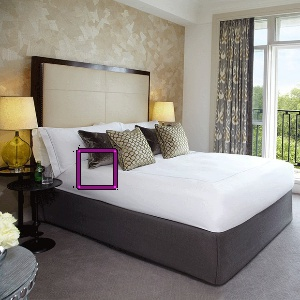square: (74, 145, 120, 192)
